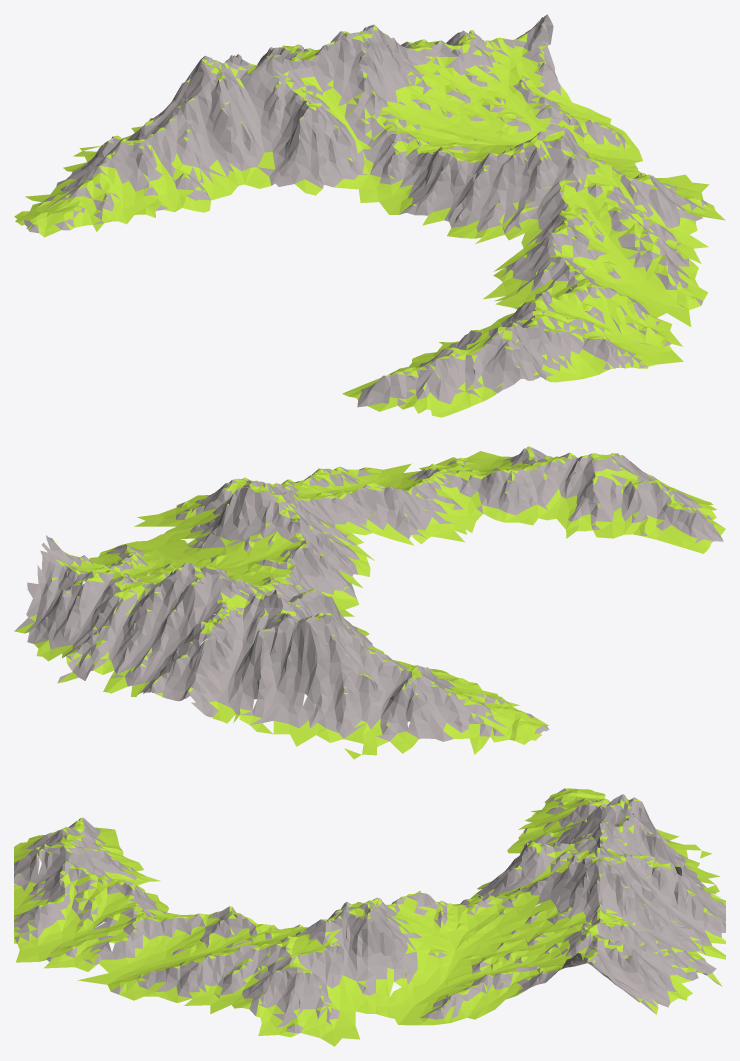
The model's file is mapa novo 2.fbx.
3 views of the same model, one above another, from view 1: azimuth 30°, elevation 25°; view 2: azimuth 150°, elevation 25°; view 3: azimuth 270°, elevation 25° (orthographic). The views are drawn at different scales.
Parts seen in each view (by area): view 1: Plane.001; view 2: Plane.001; view 3: Plane.001.
Boxes of the visible parts, x1,y1,x2,y2 form: Plane.001: [14, 14, 725, 417]; Plane.001: [14, 446, 725, 759]; Plane.001: [14, 788, 725, 1046].
Size of the model in its own units: 207 by 38.58 by 242.
